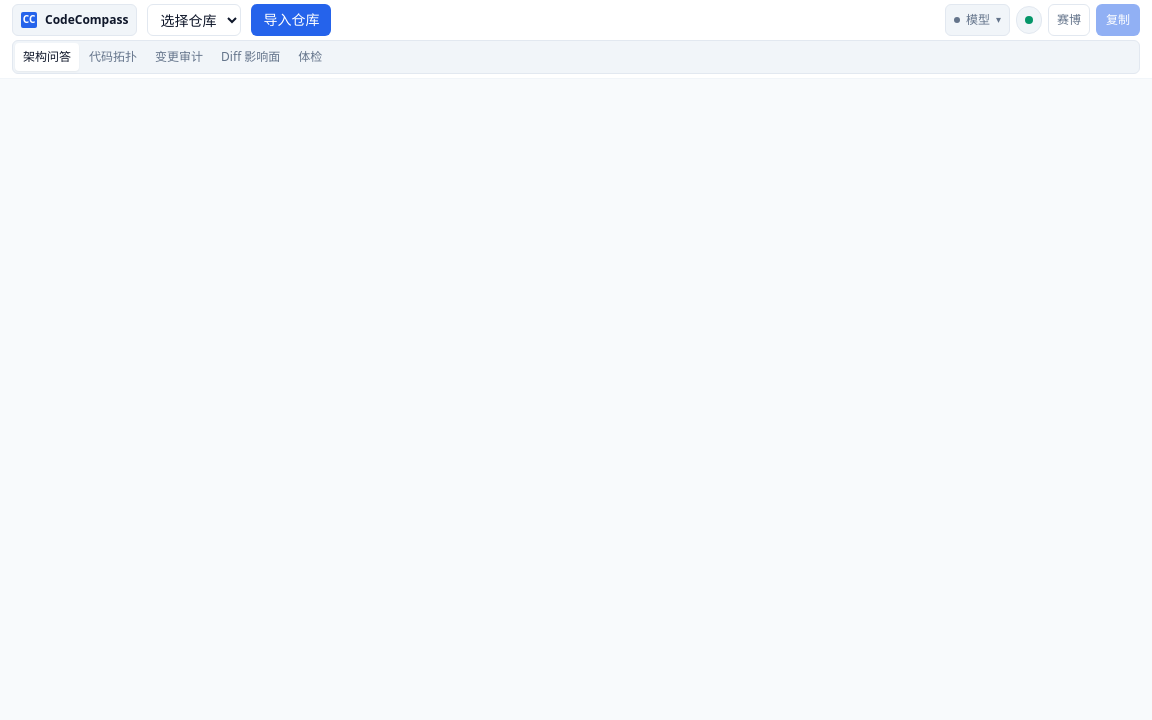
Test: TopBar import dialog › closes the dialog on Escape (Bug-11)
The width and height of the screenshot is (1152, 720).
Click the button with test id "open-import": coordinates (291, 20) [251,4,331,36]
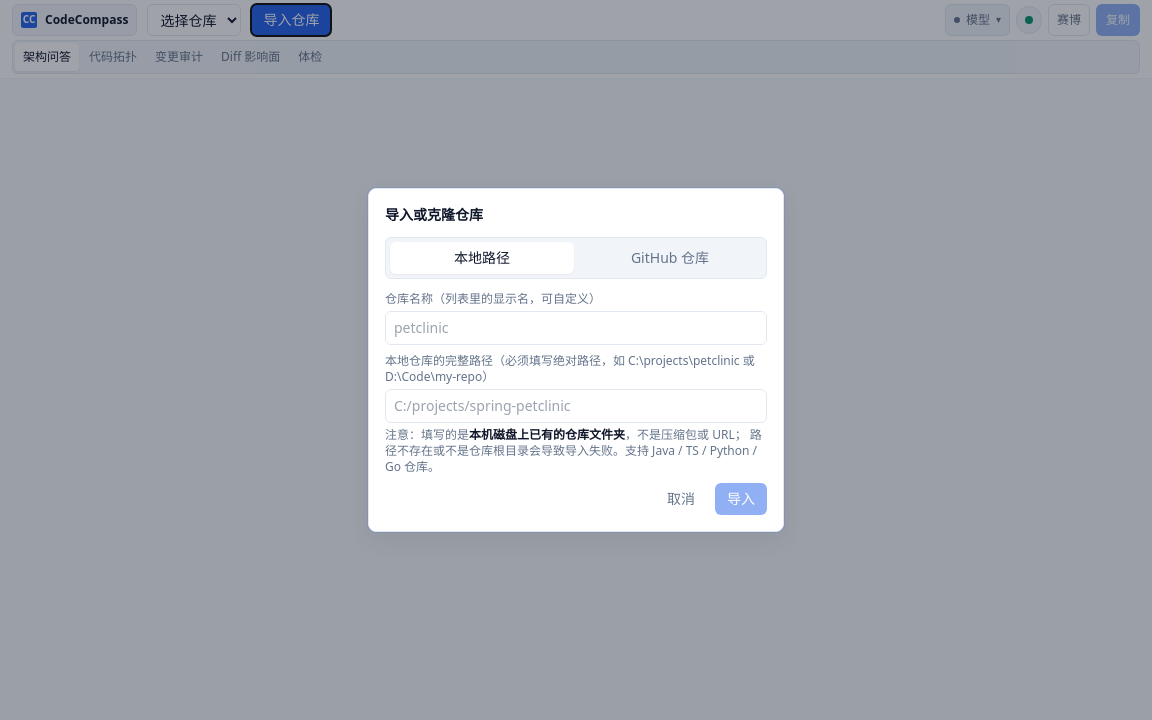
Expected: the dialog with test id "import-dialog" is shown
Press Escape
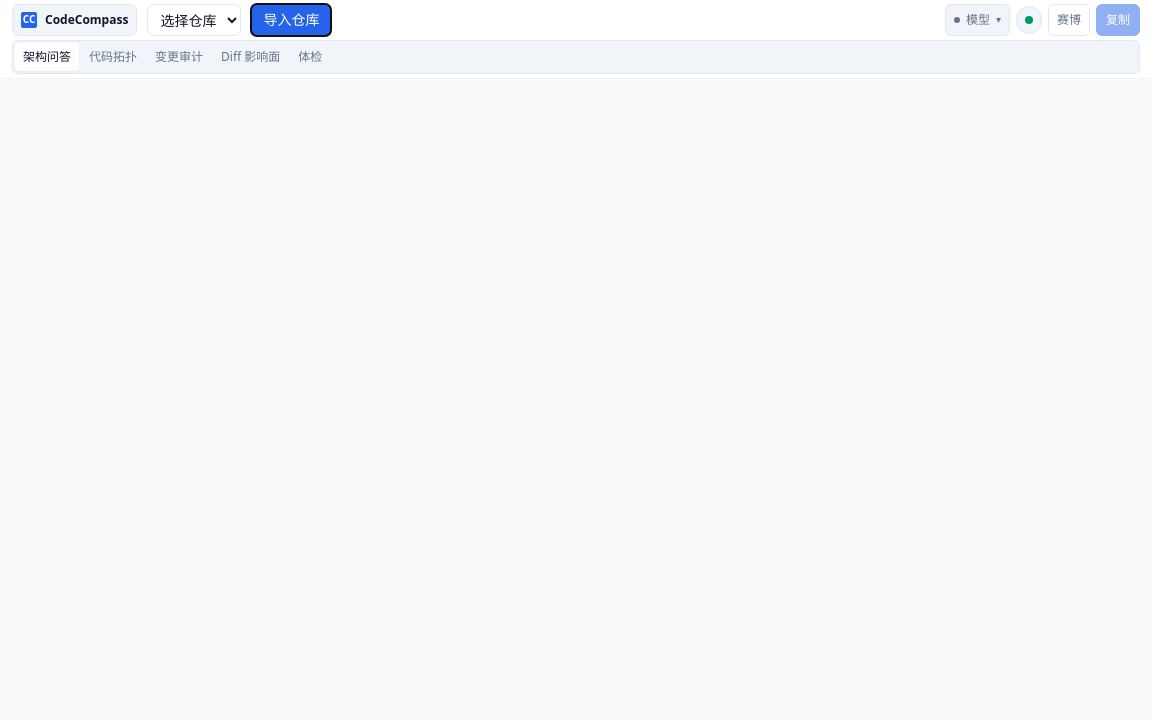
Expected: the dialog with test id "import-dialog" is gone
